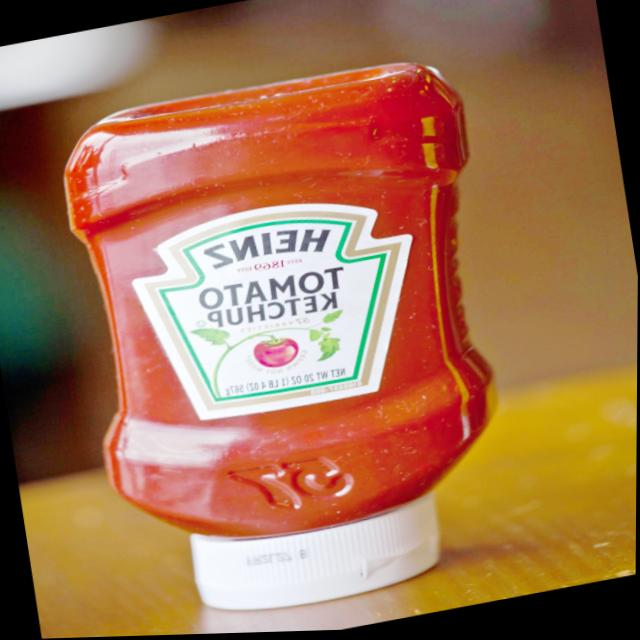ketchup: (40, 39, 543, 639)
